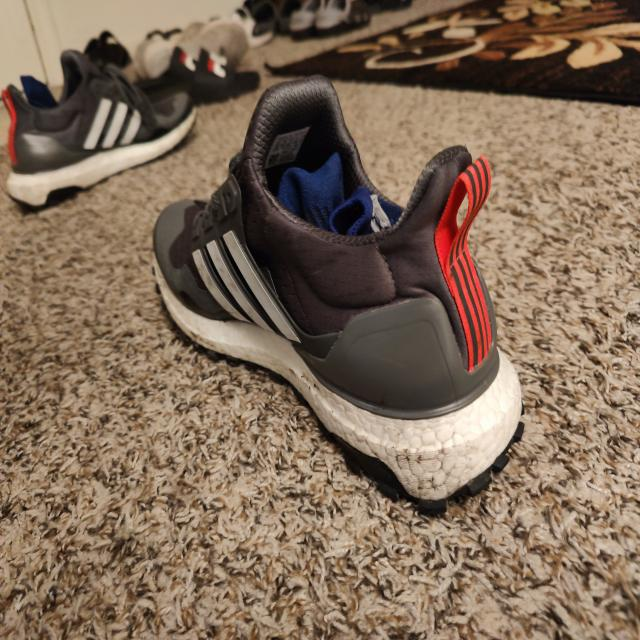black shoes: (205, 192, 459, 355)
